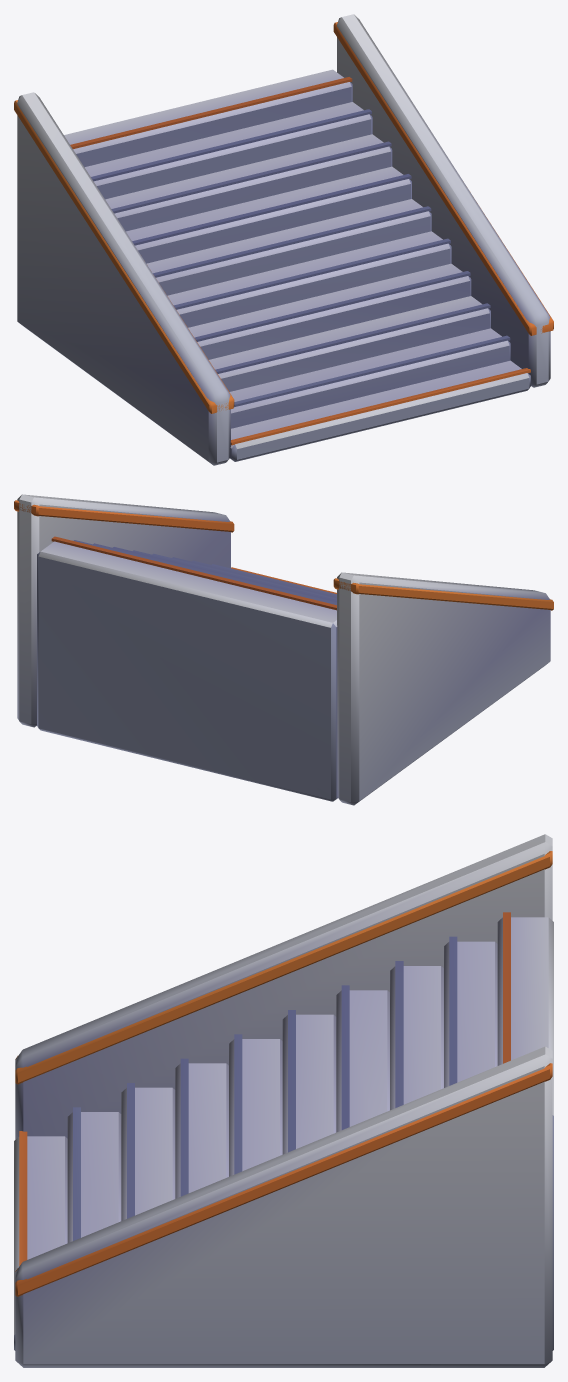
File: hub_ruin_stairs.glb
3 views of the same model, one above another, from view 1: azimuth 30°, elevation 25°; view 2: azimuth 150°, elevation 25°; view 3: azimuth 270°, elevation 25° (orthographic). The views are drawn at different scales.
Visible parts, largest first — view 1: hub_ruin_stairs; view 2: hub_ruin_stairs; view 3: hub_ruin_stairs.
Part boxes in pixels (x1=…): hub_ruin_stairs: x1=14, y1=14, x2=553, y2=465; hub_ruin_stairs: x1=14, y1=494, x2=553, y2=805; hub_ruin_stairs: x1=14, y1=834, x2=553, y2=1367.
Size of the model in its own units: 4.03 by 2.58 by 4.02.
